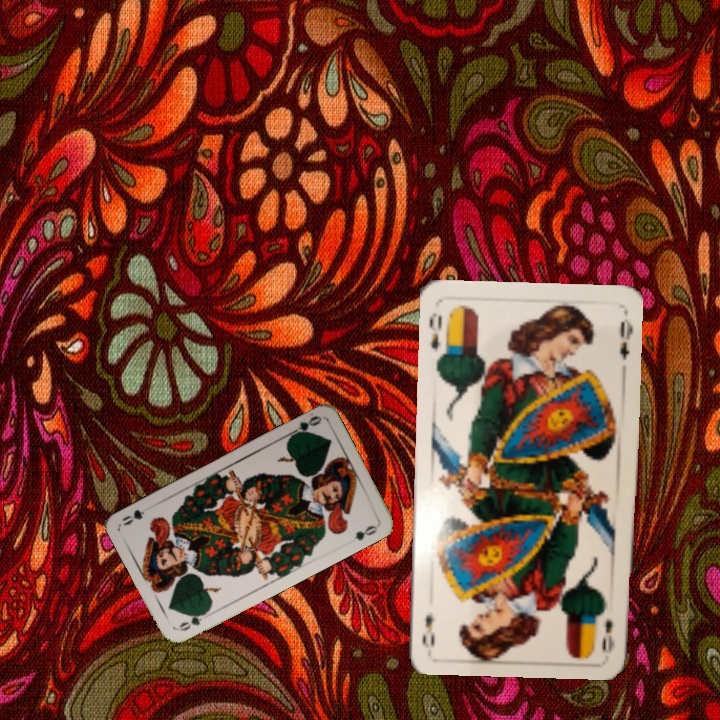EO: (425, 309, 445, 353), (599, 615, 617, 656)
GO: (285, 412, 324, 441), (175, 607, 211, 634)
